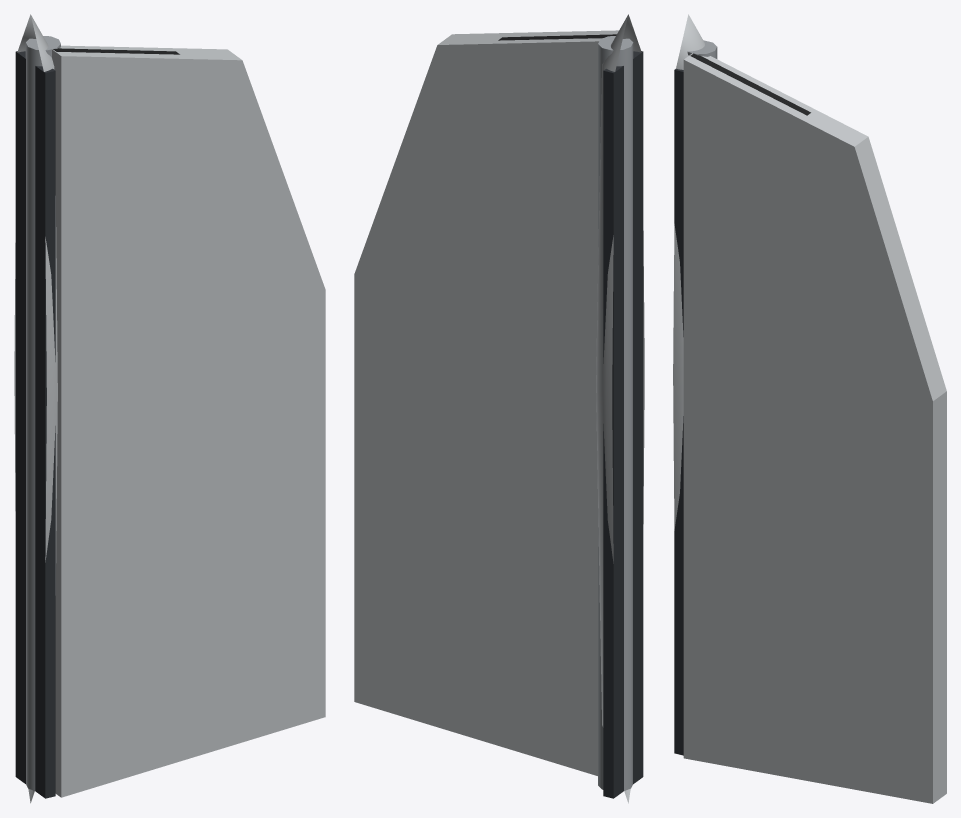
File: fin_flap_l.glb
3 views of the same model, side by side, from view 1: azimuth 30°, elevation 25°; view 2: azimuth 150°, elevation 25°; view 3: azimuth 330°, elevation 25° (orthographic). The views are drawn at different scales.
Parts seen in each view (by area): view 1: fin; view 2: fin; view 3: fin.
Part boxes in pixels (<box>): fin: <box>14,14,325,803</box>; fin: <box>354,14,644,803</box>; fin: <box>673,14,946,803</box>.
Bounding box in the file's own units: 1.09 × 2.94 × 0.2301.
Materials: 4 (1 with a texture image).
